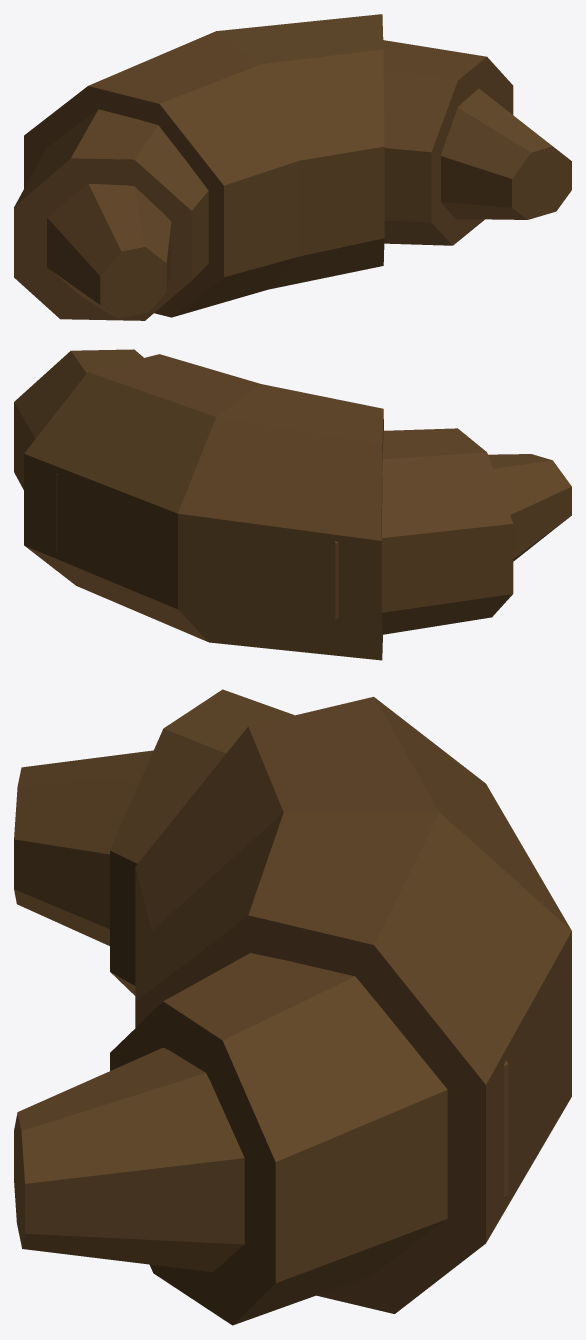
The model's file is Croissant.obj.
The picture shows the model from 3 angles, top to bottom: view 1: azimuth 30°, elevation 25°; view 2: azimuth 150°, elevation 25°; view 3: azimuth 270°, elevation 25°; orthographic projection. The views are drawn at different scales.
Visible parts, largest first — view 1: Croissant_Cube.086; view 2: Croissant_Cube.086; view 3: Croissant_Cube.086.
Part boxes in pixels (x1,y1,x2,y2): Croissant_Cube.086: (14,14,571,320); Croissant_Cube.086: (14,349,571,660); Croissant_Cube.086: (14,689,571,1325).
Bounding box in the file's own units: 1.3 × 0.5498 × 0.7305.
